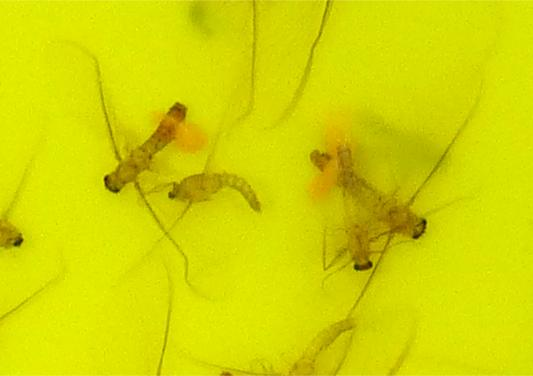Ephemeroptera: (303, 148, 433, 244), (100, 100, 188, 200), (168, 172, 268, 219), (344, 140, 378, 276)
